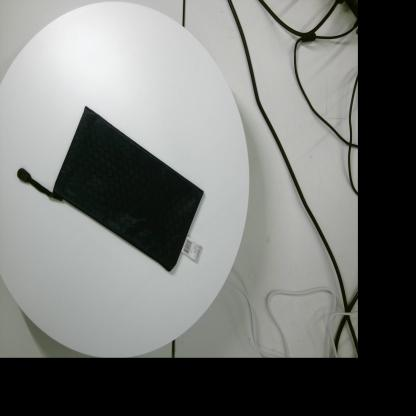Stationery: (17, 106, 204, 272)
